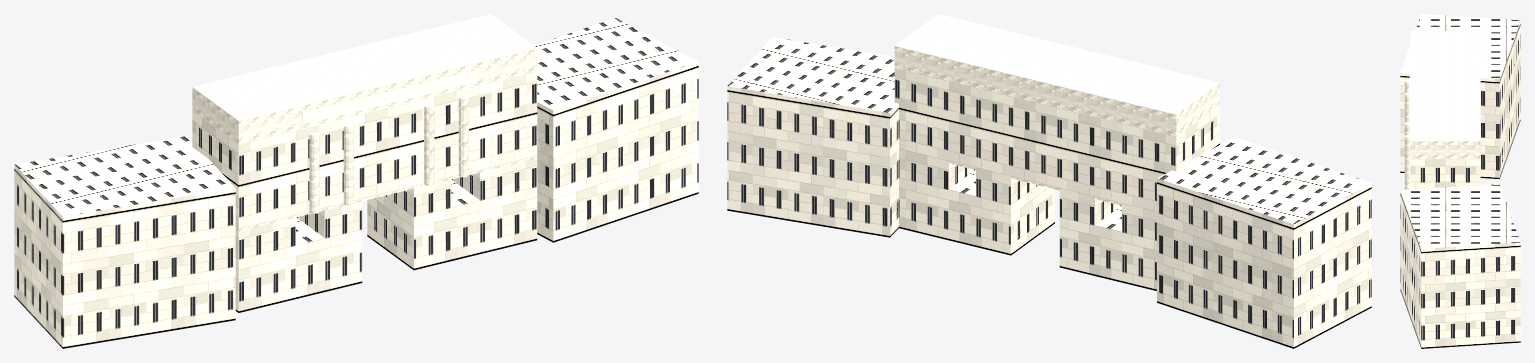
Rendered from admiralty_arch.glb.
3 renders of one model, left to right at view 1: azimuth 30°, elevation 25°; view 2: azimuth 150°, elevation 25°; view 3: azimuth 270°, elevation 25°, orthographic. The views are drawn at different scales.
Parts seen in each view (by area): view 1: Pier, Soffit, Inscription; view 2: Pier, Soffit; view 3: Pier, Soffit, Inscription.
Boxes of the visible parts, <box> form: Pier: <box>14,18,698,348</box>; Soffit: <box>192,14,537,231</box>; Inscription: <box>302,70,474,124</box>; Pier: <box>727,37,1371,348</box>; Soffit: <box>894,14,1219,205</box>; Pier: <box>1400,14,1520,348</box>; Soffit: <box>1404,30,1480,189</box>; Inscription: <box>1409,60,1410,131</box>.
Size of the model in its own units: 111 by 32 by 23.96.
3 materials, 2 textured.
